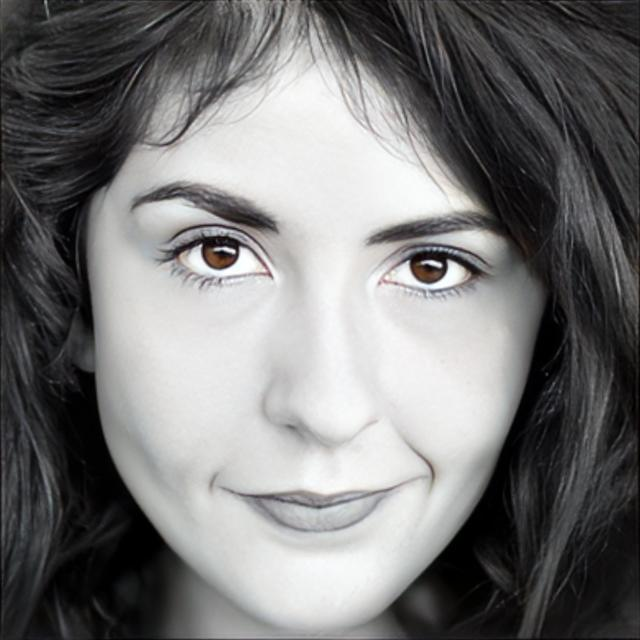content: (90, 0, 550, 632)
